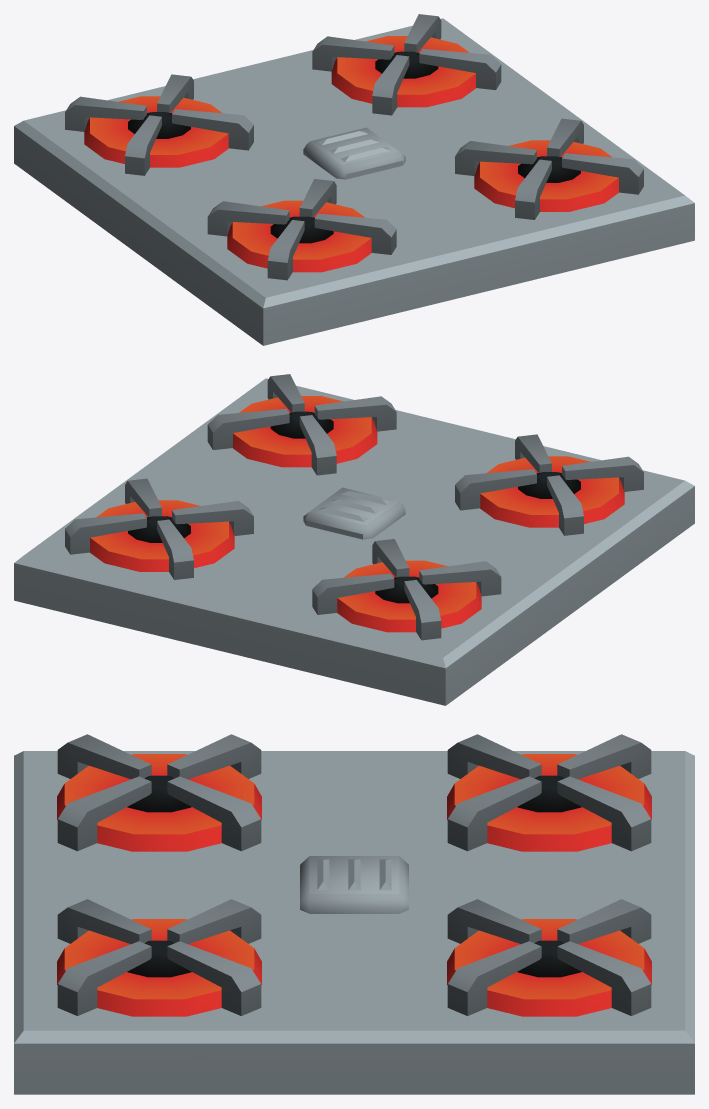
File: Stove-LdFYthYpQ9.glb
The picture shows the model from 3 angles, top to bottom: view 1: azimuth 30°, elevation 25°; view 2: azimuth 150°, elevation 25°; view 3: azimuth 270°, elevation 25°; orthographic projection. The views are drawn at different scales.
Visible parts, largest first — view 1: stove_multi_countertop; view 2: stove_multi_countertop; view 3: stove_multi_countertop.
Boxes of the visible parts, bbox=[...] form: stove_multi_countertop: bbox=[14, 14, 694, 345]; stove_multi_countertop: bbox=[14, 374, 694, 705]; stove_multi_countertop: bbox=[14, 734, 694, 1094].
Bounding box in the file's own units: 1.75 × 0.27 × 1.75.
1 material, 1 textured.
